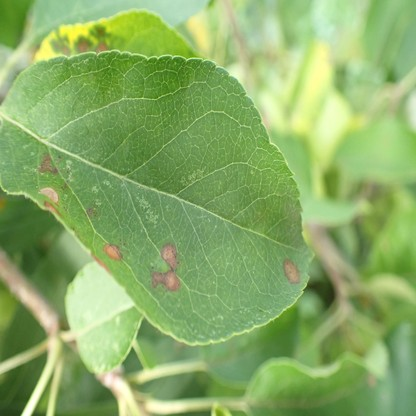frogeye_leaf_spot: (152, 244, 180, 290), (283, 258, 301, 284), (103, 244, 123, 260), (38, 187, 58, 203), (44, 202, 59, 216), (95, 44, 108, 54), (77, 43, 87, 53), (62, 46, 69, 56)
